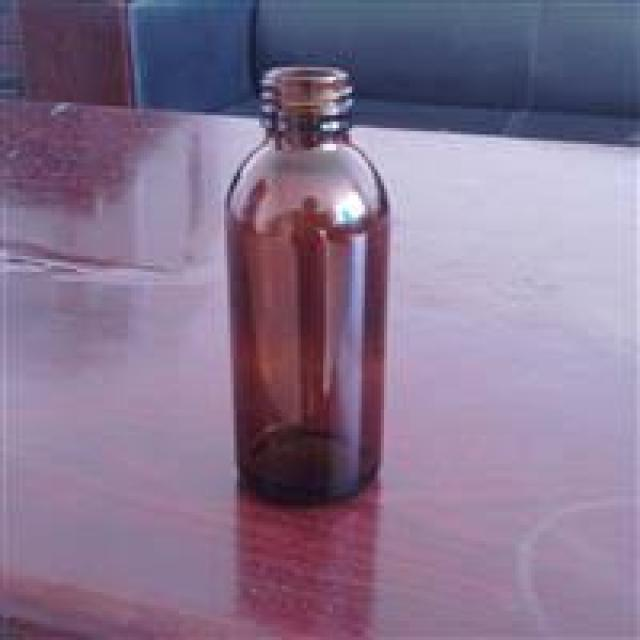glass: (224, 67, 387, 499)
